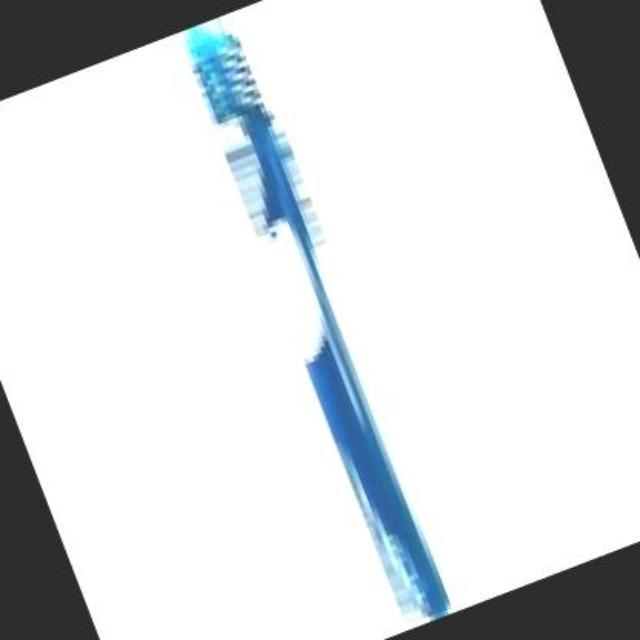toothbrush: (154, 2, 484, 634)
